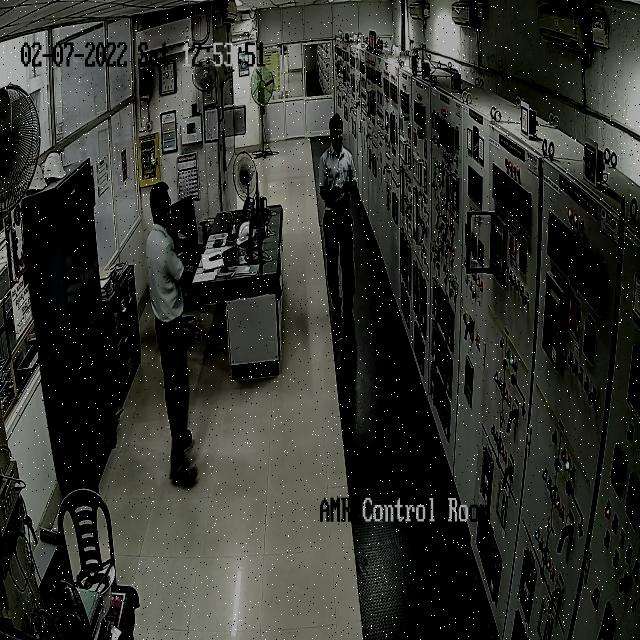Boots: (166, 450, 198, 492), (175, 435, 198, 450), (345, 310, 355, 339), (330, 304, 340, 324)
